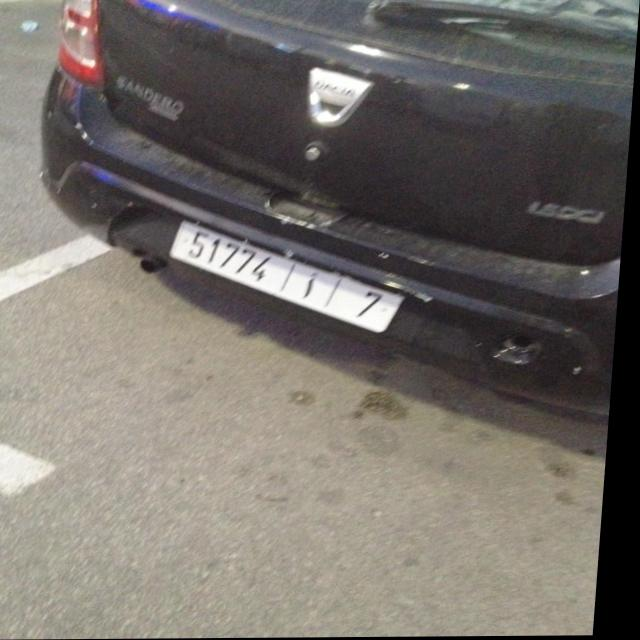License-Plate: (173, 221, 407, 333)
